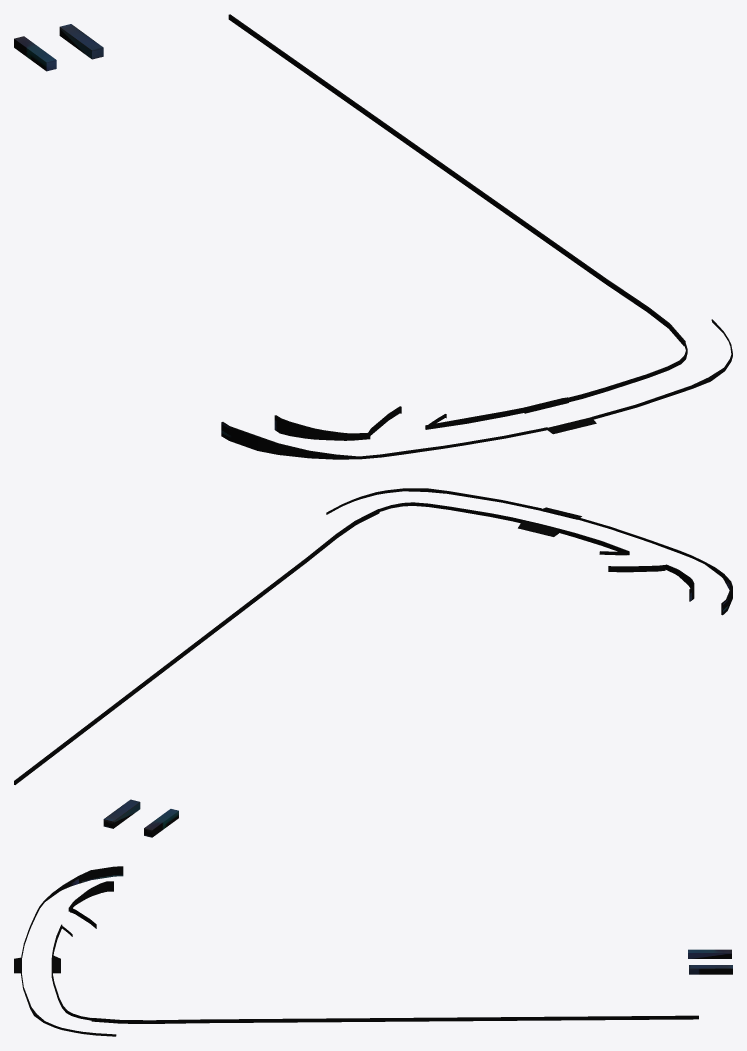
Rendered from Road_blocking_covers-transformed.glb.
The picture shows the model from 3 angles, top to bottom: view 1: azimuth 30°, elevation 25°; view 2: azimuth 150°, elevation 25°; view 3: azimuth 270°, elevation 25°; orthographic projection. The views are drawn at different scales.
Visible parts, largest first — view 1: Cube.026, Cube.028, Cube.033, Cube.036, Cube.040, Cube.027, Cube.038; view 2: Cube.026, Cube.033, Cube.028, Cube.027; view 3: Cube.026, Cube.028, Cube.040, Cube.038, Cube.036, Cube.027, Cube.033.
Part boxes in pixels (x1,y1,x2,y2): Cube.026: [228, 14, 685, 346]; Cube.028: [221, 422, 547, 459]; Cube.033: [425, 341, 687, 429]; Cube.036: [274, 415, 370, 440]; Cube.040: [59, 24, 103, 59]; Cube.027: [591, 319, 732, 419]; Cube.038: [14, 36, 56, 71]; Cube.026: [14, 509, 379, 784]; Cube.033: [379, 502, 629, 555]; Cube.028: [577, 517, 732, 615]; Cube.027: [326, 488, 541, 514]; Cube.026: [91, 1015, 698, 1023]; Cube.028: [21, 866, 123, 957]; Cube.040: [689, 965, 732, 974]; Cube.038: [688, 949, 731, 958]; Cube.036: [68, 881, 113, 911]; Cube.027: [20, 971, 116, 1036]; Cube.033: [51, 924, 91, 1020].
Bounding box in the file's own units: 2500 × 79.6 × 4729.
3 materials, 2 textured.
